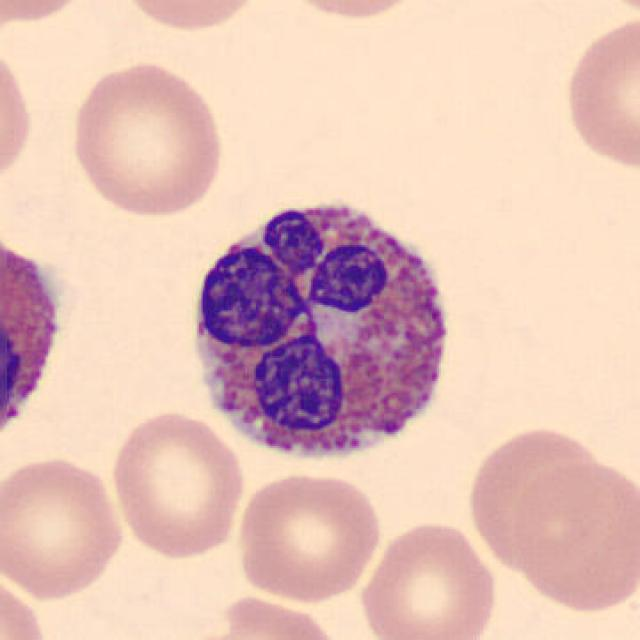Nuclei: (205, 250, 301, 347), (253, 341, 345, 432), (312, 246, 390, 313), (266, 210, 322, 271)
